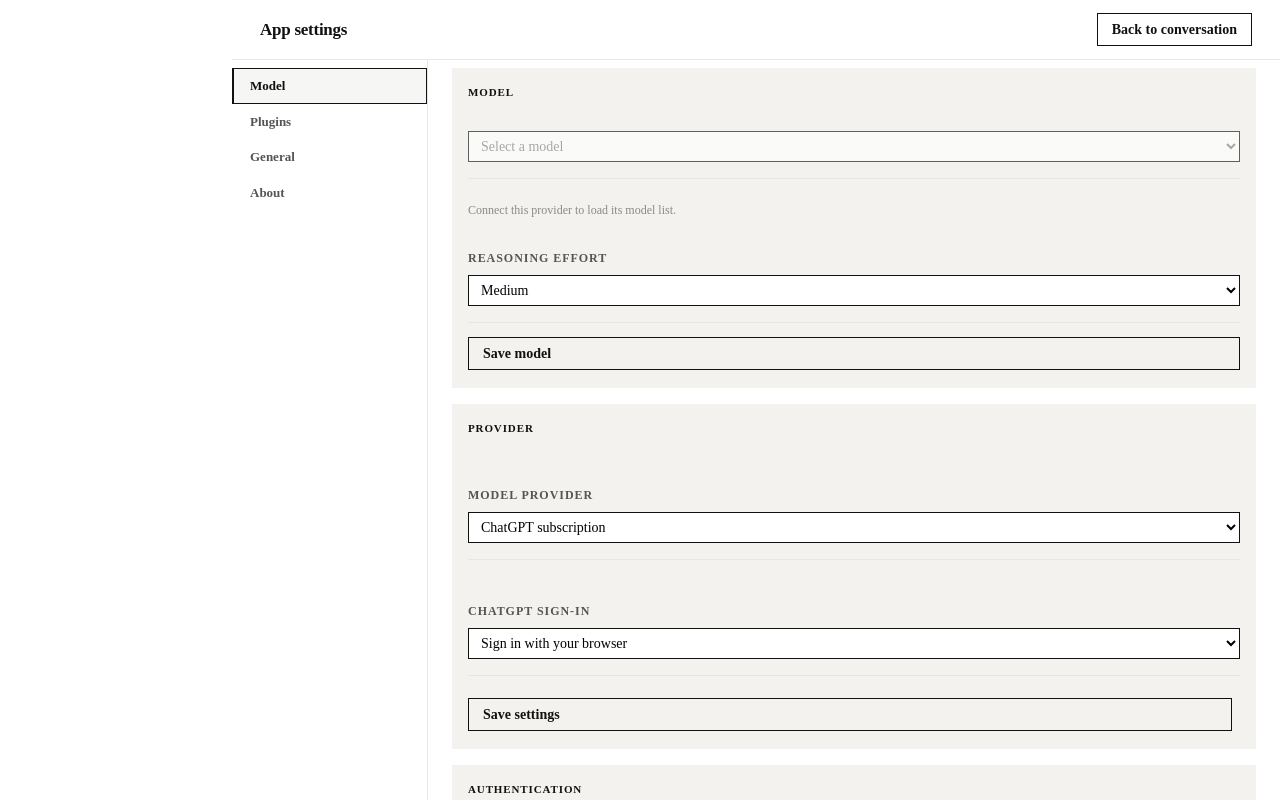
AppSettings › keeps the version, the update check, and the release link on About
Step 1. Click the tab "About" → (330, 192), box [232, 174, 427, 210]
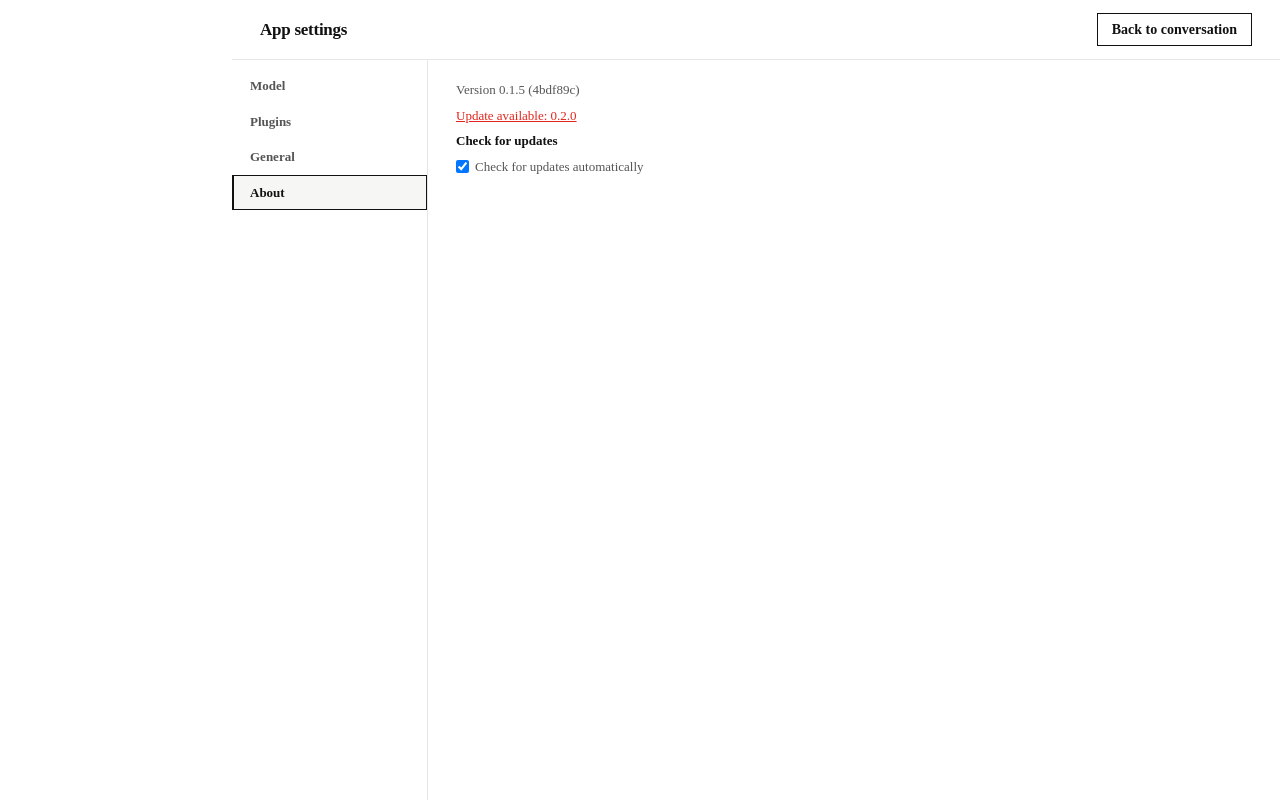
Check: the text "Version 0.1.5 (4bdf89c)" is shown, box [456, 80, 580, 100]
Check: the button "Check for updates" is shown, box [456, 131, 558, 150]
Check: the checkbox labelled "Check for updates automatically" is checked, box [456, 160, 469, 173]
